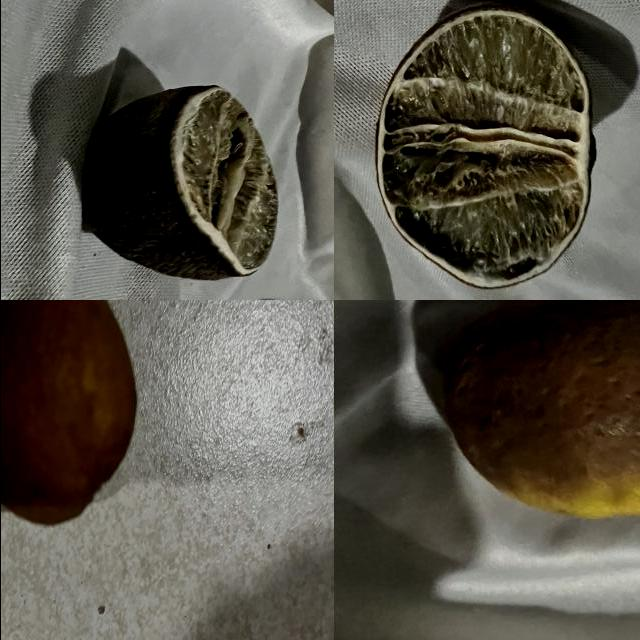Infectious: (379, 7, 597, 287), (441, 300, 640, 519), (81, 83, 280, 280)
